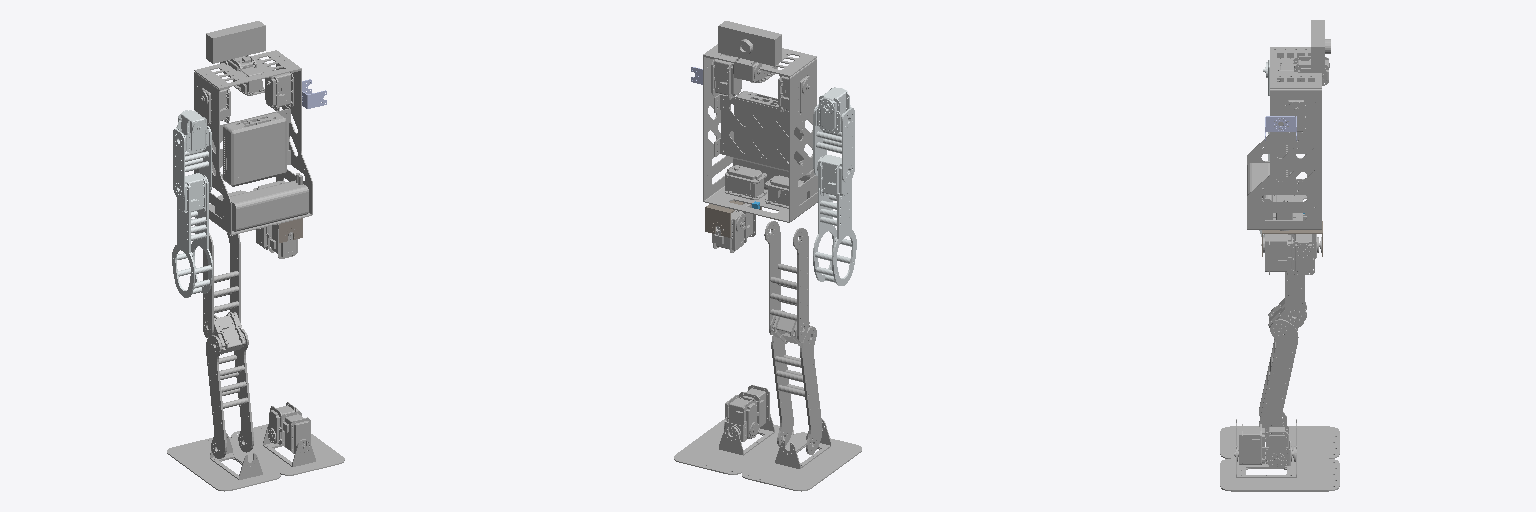
--- Facts derived from the render (not from the file) ---
The picture shows the robot from 3 angles, left to right: view 1: azimuth 30°, elevation 25°; view 2: azimuth 150°, elevation 25°; view 3: azimuth 270°, elevation 25°; orthographic projection.
Robot: SAKURA — 22 links, 21 joints (19 continuous, 1 fixed, 1 floating); root link world; default pose: every joint at zero.
Links seen in each view (by area): view 1: TRUNK, LLEG3, LARM2, LFOOT, LLEG2, LARM1, RFOOT, HEAD, RLEG4, RLEG1; view 2: TRUNK, LFOOT, LARM2, LLEG2, LLEG3, RFOOT, LARM1, HEAD, RLEG4, RLEG1, RLEG0; view 3: TRUNK, RFOOT, LLEG3, RLEG4, LFOOT, RLEG1, LLEG2, HEAD.
Boxes of the visible links, box(x1,y1,x2,y2) form: TRUNK: box(194, 50, 312, 234); LLEG3: box(206, 329, 253, 458); LARM2: box(172, 173, 212, 297); LFOOT: box(167, 433, 280, 491); LLEG2: box(203, 233, 245, 354); LARM1: box(173, 110, 211, 199); RFOOT: box(231, 424, 344, 475); HEAD: box(206, 21, 265, 80); RLEG4: box(268, 402, 310, 453); RLEG1: box(256, 224, 297, 258); TRUNK: box(703, 44, 817, 222); LFOOT: box(742, 419, 861, 491); LARM2: box(813, 155, 856, 285); LLEG2: box(764, 221, 810, 346); LLEG3: box(771, 326, 822, 454); RFOOT: box(674, 414, 793, 474); LARM1: box(813, 87, 854, 182); HEAD: box(718, 21, 781, 82); RLEG4: box(724, 385, 769, 441); RLEG1: box(712, 203, 755, 252); RLEG0: box(705, 200, 761, 237); TRUNK: box(1247, 47, 1321, 230); RFOOT: box(1220, 446, 1339, 491); LLEG3: box(1259, 306, 1298, 437); RLEG4: box(1234, 424, 1295, 467); LFOOT: box(1220, 419, 1339, 458); RLEG1: box(1261, 234, 1321, 274); LLEG2: box(1268, 214, 1306, 331); HEAD: box(1293, 20, 1330, 85).
Size in the robot's own frame: 0.291 by 0.208 by 0.8159 metres.
12 mesh visuals loaded from 20 distinct referenced files (12 binary STL); not drawn: 8 (reference not matched to a file when rendering).

URDF robot description (SAKURA):
<?xml version="1.0"?>
<robot
  name="SAKURA">	
  <gazebo reference="imu_link">
    <gravity>true</gravity>
    <sensor name="imu_sensor" type="imu">
      <always_on>true</always_on>
      <update_rate>125</update_rate>
      <visualize>true</visualize>
      <topic>__default_topic__</topic>
      <plugin filename="libgazebo_ros_imu_sensor.so" name="imu_plugin">
        <topicName>imu/data_raw</topicName>
        <bodyName>imu_link</bodyName>
        <updateRateHZ>125.0</updateRateHZ>
        <gaussianNoise>0.0</gaussianNoise>
        <xyzOffset>0 0 0</xyzOffset>
        <rpyOffset>0 0 0</rpyOffset>
        <frameName>imu_link</frameName>
      </plugin>
      <pose>0 0 0 0 0 0</pose>
    </sensor>
  </gazebo>
  <gazebo>
    <plugin filename="libgazebo_ros_control.so" name="gazebo_ros_control">
      <robotNamespace>/SAKURA</robotNamespace>
      <robotSimType>gazebo_ros_control/DefaultRobotHWSim</robotSimType>
    </plugin>
  </gazebo>
  <gazebo reference="J_HEAD">
	<stopErp>0.2</stopErp>
	<provideFeedback>true</provideFeedback>
  </gazebo>  
  <gazebo reference="J_LARM0">
	<stopErp>0.2</stopErp>
	<provideFeedback>true</provideFeedback>
  </gazebo>  
  <gazebo reference="J_LARM1">
	<stopErp>0.2</stopErp>
	<provideFeedback>true</provideFeedback>
  </gazebo>  
  <gazebo reference="J_LARM2">
	<stopErp>0.2</stopErp>
	<provideFeedback>true</provideFeedback>
  </gazebo>  
  <gazebo reference="J_RARM0">
	<stopErp>0.2</stopErp>
	<provideFeedback>true</provideFeedback>
  </gazebo>  
  <gazebo reference="J_RARM1">
	<stopErp>0.2</stopErp>
	<provideFeedback>true</provideFeedback>
  </gazebo>  
  <gazebo reference="J_LLEG0">
	<stopErp>0.2</stopErp>
	<provideFeedback>true</provideFeedback>
  </gazebo>  
  <gazebo reference="J_LLEG1">
	<stopErp>0.2</stopErp>
	<provideFeedback>true</provideFeedback>
  </gazebo>  
  <gazebo reference="J_LLEG2">
	<stopErp>0.2</stopErp>
	<provideFeedback>true</provideFeedback>
  </gazebo>  
  <gazebo reference="J_LLEG3">
	<stopErp>0.2</stopErp>
	<provideFeedback>true</provideFeedback>
  </gazebo>  
  <gazebo reference="J_LLEG4">
	<stopErp>0.2</stopErp>
	<provideFeedback>true</provideFeedback>
  </gazebo>  
  <gazebo reference="J_RLEG0">
	<stopErp>0.2</stopErp>
	<provideFeedback>true</provideFeedback>
  </gazebo>  
  <gazebo reference="J_RLEG1">
	<stopErp>0.2</stopErp>
	<provideFeedback>true</provideFeedback>
  </gazebo>  
  <gazebo reference="J_RLEG2">
	<stopErp>0.2</stopErp>
	<provideFeedback>true</provideFeedback>
  </gazebo>  
  <gazebo reference="J_RLEG3">
	<stopErp>0.2</stopErp>
	<provideFeedback>true</provideFeedback>
  </gazebo>  
  <gazebo reference="J_RLEG4">
	<stopErp>0.2</stopErp>
	<provideFeedback>true</provideFeedback>
  </gazebo> 
  <gazebo reference="J_RARM2">
	<stopErp>0.2</stopErp>
	<provideFeedback>true</provideFeedback>
  </gazebo> 
  <gazebo reference="J_LFOOT">
	<stopErp>0.2</stopErp>
	<provideFeedback>true</provideFeedback>
  </gazebo>  
  <gazebo reference="J_RFOOT">
	<stopErp>0.2</stopErp>
	<provideFeedback>true</provideFeedback>
  </gazebo>  
  <gazebo reference="RFOOT">
    <mu1>1.0</mu1>
    <mu2>1.0</mu2>
    <kp>1220000.0</kp>
    <kd>1.0</kd> <!---->
  </gazebo>
  <gazebo reference="LFOOT">
    <mu1>1.0</mu1>
    <mu2>1.0</mu2>
    <kp>1220000.0</kp>
    <kd>1.0</kd> <!---->
  </gazebo>
  
<!-- FT SENSORS -->
  <gazebo>
	<plugin name="ft_sensor" filename="libgazebo_ros_ft_sensor.so">
	  <updateRate>100.0</updateRate>
	  <topicName>ft_sensor_larm0</topicName>
	  <jointName>J_LARM0</jointName>
	</plugin>
  </gazebo>
  <gazebo>
	<plugin name="ft_sensor" filename="libgazebo_ros_ft_sensor.so">
	  <updateRate>100.0</updateRate>
	  <topicName>ft_sensor_larm1</topicName>
	  <jointName>J_LARM1</jointName>
	</plugin>
  </gazebo>
  <gazebo>
	<plugin name="ft_sensor" filename="libgazebo_ros_ft_sensor.so">
	  <updateRate>100.0</updateRate>
	  <topicName>ft_sensor_larm2</topicName>
	  <jointName>J_LARM2</jointName>
	</plugin>
  </gazebo>
  
  
    <gazebo>
	<plugin name="ft_sensor" filename="libgazebo_ros_ft_sensor.so">
	  <updateRate>100.0</updateRate>
	  <topicName>ft_sensor_rarm0</topicName>
	  <jointName>J_RARM0</jointName>
	</plugin>
  </gazebo>
  <gazebo>
	<plugin name="ft_sensor" filename="libgazebo_ros_ft_sensor.so">
	  <updateRate>100.0</updateRate>
	  <topicName>ft_sensor_rarm1</topicName>
	  <jointName>J_RARM1</jointName>
	</plugin>
  </gazebo>
  <gazebo>
	<plugin name="ft_sensor" filename="libgazebo_ros_ft_sensor.so">
	  <updateRate>100.0</updateRate>
	  <topicName>ft_sensor_rarm2</topicName>
	  <jointName>J_RARM2</jointName>
	</plugin>
  </gazebo>
  
  
  
  <gazebo>
	<plugin name="ft_sensor" filename="libgazebo_ros_ft_sensor.so">
	  <updateRate>100.0</updateRate>
	  <topicName>ft_sensor_lleg0</topicName>
	  <jointName>J_LLEG0</jointName>
	</plugin>
  </gazebo>
    <gazebo>
	<plugin name="ft_sensor" filename="libgazebo_ros_ft_sensor.so">
	  <updateRate>100.0</updateRate>
	  <topicName>ft_sensor_lleg1</topicName>
	  <jointName>J_LLEG1</jointName>
	</plugin>
  </gazebo>
    <gazebo>
	<plugin name="ft_sensor" filename="libgazebo_ros_ft_sensor.so">
	  <updateRate>100.0</updateRate>
	  <topicName>ft_sensor_lleg2</topicName>
	  <jointName>J_LLEG2</jointName>
	</plugin>
  </gazebo>
    <gazebo>
	<plugin name="ft_sensor" filename="libgazebo_ros_ft_sensor.so">
	  <updateRate>100.0</updateRate>
	  <topicName>ft_sensor_lleg3</topicName>
	  <jointName>J_LLEG3</jointName>
	</plugin>
  </gazebo>
    <gazebo>
	<plugin name="ft_sensor" filename="libgazebo_ros_ft_sensor.so">
	  <updateRate>100.0</updateRate>
	  <topicName>ft_sensor_lleg4</topicName>
	  <jointName>J_LLEG4</jointName>
	</plugin>
  </gazebo>
    <gazebo>
	<plugin name="ft_sensor" filename="libgazebo_ros_ft_sensor.so">
	  <updateRate>100.0</updateRate>
	  <topicName>ft_sensor_lfoot</topicName>
	  <jointName>J_LFOOT</jointName>
	</plugin>
  </gazebo>
  
    <gazebo>
	<plugin name="ft_sensor" filename="libgazebo_ros_ft_sensor.so">
	  <updateRate>100.0</updateRate>
	  <topicName>ft_sensor_rleg0</topicName>
	  <jointName>J_RLEG0</jointName>
	</plugin>
  </gazebo>
    <gazebo>
	<plugin name="ft_sensor" filename="libgazebo_ros_ft_sensor.so">
	  <updateRate>100.0</updateRate>
	  <topicName>ft_sensor_rleg1</topicName>
	  <jointName>J_RLEG1</jointName>
	</plugin>
  </gazebo>
    <gazebo>
	<plugin name="ft_sensor" filename="libgazebo_ros_ft_sensor.so">
	  <updateRate>100.0</updateRate>
	  <topicName>ft_sensor_rleg2</topicName>
	  <jointName>J_RLEG2</jointName>
	</plugin>
  </gazebo>
    <gazebo>
	<plugin name="ft_sensor" filename="libgazebo_ros_ft_sensor.so">
	  <updateRate>100.0</updateRate>
	  <topicName>ft_sensor_rleg3</topicName>
	  <jointName>J_RLEG3</jointName>
	</plugin>
  </gazebo>
    <gazebo>
	<plugin name="ft_sensor" filename="libgazebo_ros_ft_sensor.so">
	  <updateRate>100.0</updateRate>
	  <topicName>ft_sensor_rleg4</topicName>
	  <jointName>J_RLEG4</jointName>
	</plugin>
  </gazebo>
    <gazebo>
	<plugin name="ft_sensor" filename="libgazebo_ros_ft_sensor.so">
	  <updateRate>100.0</updateRate>
	  <topicName>ft_sensor_rfoot</topicName>
	  <jointName>J_RFOOT</jointName>
	</plugin>
  </gazebo>
  
  
  

  <link name="world">  </link>
  
  <link name="imu_link">
    <collision>
      <origin xyz="0 0 0" rpy="0 0 0"/>
      <geometry>
    <box size="0.01 0.01 0.01"/>
      </geometry>
    </collision>

    <visual>
      <origin xyz="0 0 0" rpy="0 0 0"/>
      <geometry>
    <box size="0.01 0.01 0.01"/>
      </geometry>
      <material name="red"/>
    </visual>

    <inertial>
      <mass value="1e-5" />
      <origin xyz="0 0 0" rpy="0 0 0"/>
      <inertia ixx="1e-6" ixy="0" ixz="0" iyy="1e-6" iyz="0" izz="1e-6" />
    </inertial>
  </link>
  <joint name="imu_joint" type="fixed">
    <axis xyz="-1 0 0" />
    <origin xyz="0 0 0" rpy="0 0 0"/>
    <parent link="TRUNK"/>
    <child link="imu_link"/>
  </joint>
  
  
  
  
  <link
    name="TRUNK">
    <inertial>
      <origin
        xyz="-0.000142944293532541 -0.0159940135836359 0.119253638413231"
        rpy="0 0 0" />
      <mass
        value="1.4778155091901" />
      <inertia
        ixx="0.0125398154437975"
        ixy="-2.68478156217668E-06"
        ixz="-7.17353402812125E-06"
        iyy="0.016695640033345"
        iyz="0.000776177026664091"
        izz="0.01567882258573842" />
    </inertial>
    <visual>
      <origin
        xyz="0 0 0"
        rpy="0 0 0" />
      <geometry>
        <mesh
          filename="package://sakura_description/meshes/TRUNK.STL" />
      </geometry>
      <material
        name="">
        <color
          rgba="0.752941176470588 0.752941176470588 0.752941176470588 1" />
      </material>
    </visual>
  </link>
  <joint name="fixed" type="floating">
    <parent link="world"/>
    <child link="TRUNK"/>
    <origin xyz="0 0 0.50" rpy="0 0 0"/>
  </joint>
  <link
    name="HEAD">
    <inertial>
      <origin
        xyz="-0.0038811 0.012249 0.048965"
        rpy="0 0 0" />
      <mass
        value="0.21462" />
      <inertia
        ixx="0.00110122"
        ixy="8.917E-07"
        ixz="4.6738E-06"
        iyy="0.001"
        iyz="-1.8633E-05"
        izz="0.001" />
    </inertial>
    <visual>
      <origin
        xyz="0 0 0"
        rpy="0 0 0" />
      <geometry>
        <mesh
          filename="package://sakura_description/meshes/HEAD.STL" />
      </geometry>
      <material
        name="">
        <color
          rgba="0.75294 0.75294 0.75294 1" />
      </material>
    </visual>
  </link>
  <joint
    name="J_HEAD"
    type="continuous">
    <origin
      xyz="0.0016 0.01125 0.2484"
      rpy="-1.2005E-15 -9.4278E-17 -2.3904E-16" />
    <parent
      link="TRUNK" />
    <child
      link="HEAD" />
    <axis
      xyz="0 0 1" />
    <limit
      effort="10"
      velocity="8.58" />
    <dynamics 
	  damping="0.7"
	  friction="0.5"/>
  </joint>
  <link
    name="LARM0">
    <inertial>
      <origin
        xyz="4.16333634234434E-17 2.77555756156289E-17 0.0103025666414173"
        rpy="0 0 0" />
      <mass
        value="0.0066175226097181" />
      <inertia
        ixx="1.E-03"
        ixy="0"
        ixz="0"
        iyy="1.E-03"
        iyz="0"
        izz="1.E-03" />
    </inertial>
    <visual>
      <origin
        xyz="0 0 0"
        rpy="0 0 0" />
      <geometry>
        <mesh
          filename="package://sakura_description/meshes/LARM0.STL" />
      </geometry>
      <material
        name="">
        <color
          rgba="0.792156862745098 0.819607843137255 0.933333333333333 1" />
      </material>
    </visual>
  </link>
  <joint
    name="J_LARM0"
    type="continuous">
    <origin
      xyz="-0.0935 -0.038 0.209"
      rpy="1.5708 3.14159 -1.5708" />
    <parent
      link="TRUNK" />
    <child
      link="LARM0" />
    <axis
      xyz="0 0 1" />
    <limit
      effort="10"
      velocity="8.58" />
    <dynamics 
     damping="0.7"
     friction="0.5"/>
  </joint>
  <link
    name="LARM1">
    <inertial>
      <origin
        xyz="-0.000203905909046856 -0.0358166170046635 -0.030724518771744"
        rpy="0 0 0" />
      <mass
        value="0.386889741732442" />
      <inertia
        ixx="0.001319462933467775"
        ixy="-7.00859671208955E-06"
        ixz="-6.33921748509821E-09"
        iyy="0.001"
        iyz="6.46973244600118E-07"
        izz="0.001386423060557297" />
    </inertial>
    <visual>
      <origin
        xyz="0 0 0"
        rpy="0 0 0" />
      <geometry>
        <mesh
          filename="package://sakura_description/meshes/LARM1.STL" />
      </geometry>
      <material
        name="">
        <color
          rgba="0.898039215686275 0.92156862745098 0.929411764705882 1" />
      </material>
    </visual>
  </link>
  <joint
    name="J_LARM1"
    type="continuous">
    <origin
      xyz="-0.0308 0 0.036"
      rpy="3.1416 1.5708 0" />
    <parent
      link="LARM0" />
    <child
      link="LARM1" />
    <axis
      xyz="0 0 -1" />
    <limit
      effort="10"
      velocity="8.58" />
        <dynamics 
     damping="0.7"
     friction="0.5"/>
  </joint>
  <link
    name="LARM2">
    <inertial>
      <origin
        xyz="-0.000946892853796732 -0.0604743903550126 -0.030549305382329"
        rpy="0 0 0" />
      <mass
        value="0.417770884687889" />
      <inertia
        ixx="0.00130365609096481"
        ixy="-2.20058971275383E-05"
        ixz="-1.13235654810576E-07"
        iyy="0.001"
        iyz="-4.76741794550902E-06"
        izz="0.00130522583526536" />
    </inertial>
    <visual>
      <origin
        xyz="0 0 0"
        rpy="0 0 0" />
      <geometry>
        <mesh
          filename="package://sakura_description/meshes/LARM2.STL" />
      </geometry>
      <material
        name="">
        <color
          rgba="0.898039215686275 0.92156862745098 0.929411764705882 1" />
      </material>
    </visual>
  </link>
  <joint
    name="J_LARM2"
    type="continuous">
    <origin
      xyz="0.0307 -0.1235 -0.0308"
      rpy="0 1.5708 0" />
    <parent
      link="LARM1" />
    <child
      link="LARM2" />
    <axis
      xyz="0 0 -1" />
    <limit
      effort="10"
      velocity="8.58" />
        <dynamics 
     damping="0.7"
     friction="0.5"/>
  </joint>
  <link
    name="RARM0">
    <inertial>
      <origin
        xyz="-4.16333634234434E-17 0 0.0103025666414173"
        rpy="0 0 0" />
      <mass
        value="0.00661752260971814" />
      <inertia
        ixx="1.E-03"
        ixy="0"
        ixz="0"
        iyy="1.E-03"
        iyz="0"
        izz="1.E-03" />
    </inertial>
    <visual>
      <origin
        xyz="0 0 0"
        rpy="0 0 0" />
      <geometry>
        <mesh
          filename="package://sakura_description/meshes/RARM0.STL" />
      </geometry>
      <material
        name="">
        <color
          rgba="0.792156862745098 0.819607843137255 0.933333333333333 1" />
      </material>
    </visual>
  </link>
  <joint
    name="J_RARM0"
    type="continuous">
    <origin
      xyz="0.0935 -0.038 0.209"
      rpy="-1.5708 -6.1121E-16 -1.5708" />
    <parent
      link="TRUNK" />
    <child
      link="RARM0" />
    <axis
      xyz="0 0 1" />
    <limit
      effort="10"
      velocity="8.58" />
        <dynamics 
     damping="0.7"
     friction="0.5"/>
  </joint>
  <link
    name="RARM1">
    <inertial>
      <origin
        xyz="-0.00020391 -0.035817 -0.030725"
        rpy="0 0 0" />
      <mass
        value="0.38689" />
      <inertia
        ixx="0.00131946"
        ixy="-7.0086E-06"
        ixz="-6.3392E-09"
        iyy="0.001"
        iyz="6.4697E-07"
        izz="0.00138642" />
    </inertial>
    <visual>
      <origin
        xyz="0 0 0"
        rpy="0 0 0" />
      <geometry>
        <mesh
          filename="package://sakura_description/meshes/RARM1.STL" />
      </geometry>
      <material
        name="">
        <color
          rgba="0.89804 0.92157 0.92941 1" />
      </material>
    </visual>
  </link>
  <joint
    name="J_RARM1"
    type="continuous">
    <origin
      xyz="-0.0308 0 0.036"
      rpy="3.1416 1.5708 0" />
    <parent
      link="RARM0" />
    <child
      link="RARM1" />
    <axis
      xyz="0 0 1" />
    <limit
      effort="10"
      velocity="8.58" />
        <dynamics 
     damping="0.7"
     friction="0.5"/>
  </joint>
  <link
    name="RARM2">
    <inertial>
      <origin
        xyz="-0.000946892853796774 -0.0604743903550127 -0.0305493053823289"
        rpy="0 0 0" />
      <mass
        value="0.417770884687889" />
      <inertia
        ixx="0.00130365609096481"
        ixy="-2.20058971275389E-05"
        ixz="-1.13235654810633E-07"
        iyy="0.001"
        iyz="-4.76741794550966E-06"
        izz="0.00130522583526536" />
    </inertial>
    <visual>
      <origin
        xyz="0 0 0"
        rpy="0 0 0" />
      <geometry>
        <mesh
          filename="package://sakura_description/meshes/RARM2.STL" />
      </geometry>
      <material
        name="">
        <color
          rgba="0.898039215686275 0.92156862745098 0.929411764705882 1" />
      </material>
    </visual>
  </link>
  <joint
    name="J_RARM2"
    type="continuous">
    <origin
      xyz="0.0307 -0.1235 -0.0308"
      rpy="0 1.5708 0" />
    <parent
      link="RARM1" />
    <child
      link="RARM2" />
    <axis
      xyz="0 0 -1" />
    <limit
      effort="10"
      velocity="8.58" />
        <dynamics 
     damping="0.7"
     friction="0.5"/>
  </joint>
  <link
    name="LLEG0">
    <inertial>
      <origin
        xyz="1.38777878078145E-17 1.38777878078145E-17 0.012339611662812"
        rpy="0 0 0" />
      <mass
        value="0.137487098095279" />
      <inertia
        ixx="0.001"
        ixy="0"
        ixz="0"
        iyy="0.001"
        iyz="0"
        izz="0.001" />
    </inertial>
    <visual>
      <origin
        xyz="0 0 0"
        rpy="0 0 0" />
      <geometry>
        <mesh
          filename="package://sakura_description/meshes/LLEG0.STL" />
      </geometry>
      <material
        name="">
        <color
          rgba="0.650980392156863 0.619607843137255 0.588235294117647 1" />
      </material>
    </visual>
  </link>
  <joint
    name="J_LLEG0"
    type="continuous">
    <origin
      xyz="-0.055 -0.018 -0.005"
      rpy="-3.14159265358979 1.21430643318376E-16 -1.5707963267949" />
    <parent
      link="TRUNK" />
    <child
      link="LLEG0" />
    <axis
      xyz="0 0 1" />
    <limit
      effort="10"
      velocity="8.58" />
        <dynamics 
     damping="0.7"
     friction="0.5"/>
  </joint>
  <link
    name="LLEG1">
    <inertial>
      <origin
        xyz="-4.90216563097182E-05 -0.014933566350856 -0.0542307430726147"
        rpy="0 0 0" />
      <mass
        value="0.484317524341268" />
      <inertia
        ixx="0.001258532465487086"
        ixy="-1.08430216395215E-08"
        ixz="-4.93107012410751E-07"
        iyy="0.001256538006237082"
        iyz="8.86337248194806E-06"
        izz="0.001" />
    </inertial>
    <visual>
      <origin
        xyz="0 0 0"
        rpy="0 0 0" />
      <geometry>
        <mesh
          filename="package://sakura_description/meshes/LLEG1.STL" />
      </geometry>
      <material
        name="">
        <color
          rgba="0.752941176470588 0.752941176470588 0.752941176470588 1" />
      </material>
    </visual>
  </link>
  <joint
    name="J_LLEG1"
    type="continuous">
    <origin
      xyz="0.056 0 0.036"
      rpy="-1.5707963267949 -1.22338662637834E-16 -1.5707963267949" />
    <parent
      link="LLEG0" />
    <child
      link="LLEG1" />
    <axis
      xyz="0 0 -1" />
    <limit
      effort="10"
      velocity="8.58" />
        <dynamics 
     damping="0.7"
     friction="0.5"/>
  </joint>
  <link
    name="LLEG2">
    <inertial>
      <origin
        xyz="0.0896135033902749 -0.121669815792639 -0.0285739776731877"
        rpy="0 0 0" />
      <mass
        value="0.429581814867276" />
      <inertia
        ixx="0.001739443276879588"
        ixy="0.000469298592224479"
        ixz="-4.17657698668898E-06"
        iyy="0.00145781924000273"
        iyz="4.49877955818474E-06"
        izz="0.00100793675092908" />
    </inertial>
    <visual>
      <origin
        xyz="0 0 0"
        rpy="0 0 0" />
      <geometry>
        <mesh
          filename="package://sakura_description/meshes/LLEG2.STL" />
      </geometry>
      <material
        name="">
        <color
          rgba="0.752941176470588 0.752941176470588 0.752941176470588 1" />
      </material>
    </visual>
  </link>
  <joint
    name="J_LLEG2"
    type="continuous">
    <origin
      xyz="0.0289999999999999 0 -0.0750000000000234"
      rpy="-1.5707963267949 0.78539816339745 -1.5707963267949" />
    <parent
      link="LLEG1" />
    <child
      link="LLEG2" />
    <axis
      xyz="0 0 1" />
    <limit
      effort="10"
      velocity="8.58" />
        <dynamics 
     damping="0.7"
     friction="0.5"/>
  </joint>
  <link
    name="LLEG3">
    <inertial>
      <origin
        xyz="0.0938607247050214 0.021121469241447 -0.0266864244548486"
        rpy="0 0 0" />
      <mass
        value="0.253457988874213" />
      <inertia
        ixx="0.001157893827081503"
        ixy="4.33507693026071E-06"
        ixz="2.38137513758817E-06"
        iyy="0.001215254509125973"
        iyz="4.49605098935315E-06"
        izz="0.001" />
    </inertial>
    <visual>
      <origin
        xyz="0 0 0"
        rpy="0 0 0" />
      <geometry>
        <mesh
          filename="package://sakura_description/meshes/LLEG3.STL" />
      </geometry>
      <material
        name="">
        <color
          rgba="0.752941176470588 0.752941176470588 0.752941176470588 1" />
      </material>
    </visual>
  </link>
  <joint
    name="J_LLEG3"
    type="continuous">
    <origin
      xyz="0.112429978208667 -0.169643181644254 0.00160000000000024"
      rpy="-0.0320557226319531 0.0283578707512148 -1.01721646459287" />
    <parent
      link="LLEG2" />
    <child
      link="LLEG3" />
    <axis
      xyz="-0.0283540701513945 -0.0320373469653184 0.999084408398647" />
    <limit
      effort="10"
      velocity="8.58" />
        <dynamics 
     damping="0.7"
     friction="0.5"/>  
  </joint>
  <link
    name="LLEG4">
    <inertial>
      <origin
        xyz="0.0207692569273853 -0.0149335663508559 -0.0309509783436903"
        rpy="0 0 0" />
      <mass
        value="0.484317524341267" />
      <inertia
        ixx="0.001"
        ixy="8.86337248194725E-06"
        ixz="4.93107012410836E-07"
        iyy="0.001256538006237082"
        iyz="1.08430216395228E-08"
        izz="0.001258532465487085" />
    </inertial>
    <visual>
      <origin
        xyz="0 0 0"
        rpy="0 0 0" />
      <geometry>
        <mesh
          filename="package://sakura_description/meshes/LLEG4.STL" />
      </geometry>
      <material
        name="">
        <color
          rgba="0.752941176470588 0.752941176470588 0.752941176470588 1" />
      </material>
    </visual>
  </link>
  <joint
    name="J_LLEG4"
    type="continuous">
    <origin
      xyz="0.19759 0.040682 0.007913"
      rpy="0.034963 0.024684 -1.339" />
    <parent
      link="LLEG3" />
    <child
      link="LLEG4" />
    <axis
      xyz="0 0 -1" />
    <limit
      effort="10"
      velocity="8.58" />
        <dynamics 
     damping="0.7"
     friction="0.5"/>
  </joint>
  <link
    name="LFOOT">
    <inertial>
      <origin
        xyz="-0.00984398078216434 0.033081446163245 0.0742424926896279"
        rpy="0 0 0" />
      <mass
        value="0.474832547151362" />
      <inertia
        ixx="0.001"
        ixy="8.95545085142721E-06"
        ixz="2.1883900378474E-05"
        iyy="0.001"
        iyz="-1.93251189181957E-05"
        izz="0.001" />
    </inertial>
    <visual>
      <origin
        xyz="0 0 0"
        rpy="0 0 0" />
      <geometry>
        <mesh
          filename="package://sakura_description/meshes/LFOOT.STL" />
      </geometry>
      <material
        name="">
        <color
          rgba="0.752941176470588 0.752941176470588 0.752941176470588 1" />
      </material>
    </visual>
    <collision>
      <origin
        xyz="0 0 0"
        rpy="0 0 0" />
      <geometry>
        <mesh
          filename="package://sakura_description/meshes/LFOOT.STL" />
      </geometry>
    </collision>
  </link>
  <joint
    name="J_LFOOT"
    type="continuous">
    <origin
      xyz="0.072 0 -0.031"
      rpy="0 -1.5708 0" />
    <parent
      link="LLEG4" />
    <child
      link="LFOOT" />
    <axis
      xyz="0 0 -1" />
    <limit
      effort="10"
      velocity="8.58" />
        <dynamics 
     damping="0.7"
     friction="0.5"/>
  </joint>
  <link
    name="RLEG0">
    <inertial>
      <origin
        xyz="0 1.38777878078145E-17 0.012339611662812"
        rpy="0 0 0" />
      <mass
        value="0.137487098095279" />
      <inertia
        ixx="0.001"
        ixy="0"
        ixz="0"
        iyy="0.001"
        iyz="0"
        izz="0.001" />
    </inertial>
    <visual>
      <origin
        xyz="0 0 0"
        rpy="0 0 0" />
      <geometry>
        <mesh
          filename="package://sakura_description/meshes/RLEG0.STL" />
      </geometry>
      <material
        name="">
        <color
          rgba="0.650980392156863 0.619607843137255 0.588235294117647 1" />
      </material>
    </visual>
  </link>
  <joint
    name="J_RLEG0"
    type="continuous">
    <origin
      xyz="0.055 -0.018 -0.005"
      rpy="-3.14159265358979 1.21430643318376E-16 -1.5707963267949" />
    <parent
      link="TRUNK" />
    <child
      link="RLEG0" />
    <axis
      xyz="0 0 1" />
    <limit
      effort="10"
      velocity="8.58" />
        <dynamics 
     damping="0.7"
     friction="0.5"/>
  </joint>
  <link
    name="RLEG1">
    <inertial>
      <origin
        xyz="-4.9022E-05 -0.014934 -0.054231"
        rpy="0 0 0" />
      <mass
        value="0.48432" />
      <inertia
        ixx="0.00125853"
        ixy="-1.0843E-08"
        ixz="-4.9311E-07"
        iyy="0.00125654"
        iyz="8.8634E-06"
        izz="0.001" />
    </inertial>
    <visual>
      <origin
        xyz="0 0 0"
        rpy="0 0 0" />
      <geometry>
        <mesh
          filename="package://sakura_description/meshes/RLEG1.STL" />
      </geometry>
      <material
        name="">
        <color
          rgba="0.75294 0.75294 0.75294 1" />
      </material>
    </visual>
  </link>
  <joint
    name="J_RLEG1"
    type="continuous">
    <origin
      xyz="0.056 0 0.036"
      rpy="-1.5707963267949 2.66239395980971E-16 -1.5707963267949" />
    <parent
      link="RLEG0" />
    <child
      link="RLEG1" />
    <axis
      xyz="0 0 -1" />
    <limit
      effort="10"
      velocity="8.58" />
        <dynamics 
     damping="0.7"
     friction="0.5"/>
  </joint>
  <link
    name="RLEG2">
    <inertial>
      <origin
        xyz="0.089613503390275 -0.121669815792639 -0.0285739776731877"
        rpy="0 0 0" />
      <mass
        value="0.429581814867276" />
      <inertia
        ixx="0.001739443276879589"
        ixy="0.00046929859222448"
        ixz="-4.17657698668821E-06"
        iyy="0.001457819240002731"
        iyz="4.49877955818371E-06"
        izz="0.00100793675092908" />
    </inertial>
    <visual>
      <origin
        xyz="0 0 0"
        rpy="0 0 0" />
      <geometry>
        <mesh
          filename="package://sakura_description/meshes/RLEG2.STL" />
      </geometry>
      <material
        name="">
        <color
          rgba="0.752941176470588 0.752941176470588 0.752941176470588 1" />
      </material>
    </visual>
  </link>
  <joint
    name="J_RLEG2"
    type="continuous">
    <origin
      xyz="0.0290000000000001 0 -0.075"
      rpy="-1.5707963267949 0.78539816339745 -1.5707963267949" />
    <parent
      link="RLEG1" />
    <child
      link="RLEG2" />
    <axis
      xyz="0 0 -1" />
    <limit
      effort="10"
      velocity="8.58" />
        <dynamics 
     damping="0.7"
     friction="0.5"/>
  </joint>
  <link
    name="RLEG3">
    <inertial>
      <origin
        xyz="0.093861 0.021121 -0.026686"
        rpy="0 0 0" />
      <mass
        value="0.25346" />
      <inertia
        ixx="0.00115789"
        ixy="4.3351E-06"
        ixz="2.3814E-06"
        iyy="0.00121525"
        iyz="4.4961E-06"
        izz="0.001" />
    </inertial>
    <visual>
      <origin
        xyz="0 0 0"
        rpy="0 0 0" />
      <geometry>
        <mesh
          filename="package://sakura_description/meshes/RLEG3.STL" />
      </geometry>
      <material
        name="">
        <color
          rgba="0.75294 0.75294 0.75294 1" />
      </material>
    </visual>
  </link>
  <joint
    name="J_RLEG3"
    type="continuous">
    <origin
      xyz="0.112429978208668 -0.169643181644253 0.00160000000000014"
      rpy="-0.0320557226319534 0.0283578707512146 -1.01721646459286" />
    <parent
      link="RLEG2" />
    <child
      link="RLEG3" />
    <axis
      xyz="0.0283540701513948 0.0320373469653193 -0.999084408398647" />
    <limit
      effort="10"
      velocity="8.58" />
        <dynamics 
     damping="0.7"
     friction="0.5"/>
  </joint>
  <link
    name="RLEG4">
    <inertial>
      <origin
        xyz="0.0207692569273853 -0.014933566350856 -0.0309509783436903"
        rpy="0 0 0" />
      <mass
        value="0.484317524341268" />
      <inertia
        ixx="0.001"
        ixy="8.86337248194835E-06"
        ixz="4.93107012410999E-07"
        iyy="0.001256538006237082"
        iyz="1.08430216395282E-08"
        izz="0.001258532465487085" />
    </inertial>
    <visual>
      <origin
        xyz="0 0 0"
        rpy="0 0 0" />
      <geometry>
        <mesh
          filename="package://sakura_description/meshes/RLEG4.STL" />
      </geometry>
      <material
        name="">
        <color
          rgba="0.752941176470588 0.752941176470588 0.752941176470588 1" />
      </material>
    </visual>
  </link>
  <joint
    name="J_RLEG4"
    type="continuous">
    <origin
      xyz="0.19759 0.040682 0.007913"
      rpy="0.034963 0.024684 -1.339" />
    <parent
      link="RLEG3" />
    <child
      link="RLEG4" />
    <axis
      xyz="0 0 1" />
    <limit
      effort="10"
      velocity="8.58" />
        <dynamics 
     damping="0.7"
     friction="0.5"/>
  </joint>
  <link
    name="RFOOT">
    <inertial>
      <origin
        xyz="0.009844 0.033081 0.074242"
        rpy="0 0 0" />
      <mass
        value="0.47483" />
      <inertia
        ixx="0.001"
        ixy="-8.9555E-06"
        ixz="-2.1884E-05"
        iyy="0.001"
        iyz="-1.9325E-05"
        izz="0.001" />
    </inertial>
    <visual>
      <origin
        xyz="0 0 0"
        rpy="0 0 0" />
      <geometry>
        <mesh
          filename="package://sakura_description/meshes/RFOOT.STL" />
      </geometry>
      <material
        name="">
        <color
          rgba="0.75294 0.75294 0.75294 1" />
      </material>
    </visual>
    <collision>
      <origin
        xyz="0 0 0"
        rpy="0 0 0" />
      <geometry>
        <mesh
          filename="package://sakura_description/meshes/RFOOT.STL" />
      </geometry>
    </collision>
  </link>
  <joint
    name="J_RFOOT"
    type="continuous">
    <origin
      xyz="0.072 0 -0.031"
      rpy="0 -1.5708 0" />
    <parent
      link="RLEG4" />
    <child
      link="RFOOT" />
    <axis
      xyz="0 0 -1" />
    <limit
      effort="10"
      velocity="8.58" />
        <dynamics 
     damping="0.7"
     friction="0.5"/>
  </joint>
  
  <transmission name="T_RARM0">
	<type>transmission_interface/SimpleTransmission</type>
	<joint name="J_RARM0">
	  <hardwareInterface>hardware_interface/EffortJointInterface</hardwareInterface>
	</joint>
	<actuator name="M_RARM0">
	  <hardwareInterface>hardware_interface/EffortJointInterface</hardwareInterface>
	  <mechanicalReduction>1</mechanicalReduction>
	</actuator>
  </transmission>

  <transmission name="T_RARM1">
	<type>transmission_interface/SimpleTransmission</type>
	<joint name="J_RARM1">
	  <hardwareInterface>hardware_interface/EffortJointInterface</hardwareInterface>
	</joint>
	<actuator name="M_RARM1">
	  <hardwareInterface>hardware_interface/EffortJointInterface</hardwareInterface>
	  <mechanicalReduction>1</mechanicalReduction>
	</actuator>
  </transmission>
  
    <transmission name="T_RARM2">
	<type>transmission_interface/SimpleTransmission</type>
	<joint name="J_RARM2">
	  <hardwareInterface>hardware_interface/EffortJointInterface</hardwareInterface>
	</joint>
	<actuator name="M_RARM2">
	  <hardwareInterface>hardware_interface/EffortJointInterface</hardwareInterface>
	  <mechanicalReduction>1</mechanicalReduction>
	</actuator>
  </transmission>
  
    <transmission name="T_LARM0">
	<type>transmission_interface/SimpleTransmission</type>
	<joint name="J_LARM0">
	  <hardwareInterface>hardware_interface/EffortJointInterface</hardwareInterface>
	</joint>
	<actuator name="M_LARM0">
	  <hardwareInterface>hardware_interface/EffortJointInterface</hardwareInterface>
	  <mechanicalReduction>1</mechanicalReduction>
	</actuator>
  </transmission>

  <transmission name="T_LARM1">
	<type>transmission_interface/SimpleTransmission</type>
	<joint name="J_LARM1">
	  <hardwareInterface>hardware_interface/EffortJointInterface</hardwareInterface>
	</joint>
	<actuator name="M_LARM1">
	  <hardwareInterface>hardware_interface/EffortJointInterface</hardwareInterface>
	  <mechanicalReduction>1</mechanicalReduction>
	</actuator>
  </transmission>
  
    <transmission name="T_LARM2">
	<type>transmission_interface/SimpleTransmission</type>
	<joint name="J_LARM2">
	  <hardwareInterface>hardware_interface/EffortJointInterface</hardwareInterface>
	</joint>
	<actuator name="M_LARM2">
	  <hardwareInterface>hardware_interface/EffortJointInterface</hardwareInterface>
	  <mechanicalReduction>1</mechanicalReduction>
	</actuator>
  </transmission>

  
  
  
    <transmission name="T_RLEG0">
	<type>transmission_interface/SimpleTransmission</type>
	<joint name="J_RLEG0">
	  <hardwareInterface>hardware_interface/EffortJointInterface</hardwareInterface>
	</joint>
	<actuator name="M_RLEG0">
	  <hardwareInterface>hardware_interface/EffortJointInterface</hardwareInterface>
	  <mechanicalReduction>1</mechanicalReduction>
	</actuator>
  </transmission>

  <transmission name="T_RLEG1">
	<type>transmission_interface/SimpleTransmission</type>
	<joint name="J_RLEG1">
	  <hardwareInterface>hardware_interface/EffortJointInterface</hardwareInterface>
	</joint>
	<actuator name="M_RLEG1">
	  <hardwareInterface>hardware_interface/EffortJointInterface</hardwareInterface>
	  <mechanicalReduction>1</mechanicalReduction>
	</actuator>
  </transmission>
  
    <transmission name="T_RLEG2">
	<type>transmission_interface/SimpleTransmission</type>
	<joint name="J_RLEG2">
	  <hardwareInterface>hardware_interface/EffortJointInterface</hardwareInterface>
	</joint>
	<actuator name="M_RLEG2">
	  <hardwareInterface>hardware_interface/EffortJointInterface</hardwareInterface>
	  <mechanicalReduction>1</mechanicalReduction>
	</actuator>
  </transmission>
  
    <transmission name="T_RLEG3">
	<type>transmission_interface/SimpleTransmission</type>
	<joint name="J_RLEG3">
	  <hardwareInterface>hardware_interface/EffortJointInterface</hardwareInterface>
	</joint>
	<actuator name="M_RLEG3">
	  <hardwareInterface>hardware_interface/EffortJointInterface</hardwareInterface>
	  <mechanicalReduction>1</mechanicalReduction>
	</actuator>
  </transmission>
  
   <transmission name="T_RLEG4">
	<type>transmission_interface/SimpleTransmission</type>
	<joint name="J_RLEG4">
	  <hardwareInterface>hardware_interface/EffortJointInterface</hardwareInterface>
	</joint>
	<actuator name="M_RLEG4">
	  <hardwareInterface>hardware_interface/EffortJointInterface</hardwareInterface>
	  <mechanicalReduction>1</mechanicalReduction>
	</actuator>
  </transmission>
  
  <transmission name="T_RFOOT">
	<type>transmission_interface/SimpleTransmission</type>
	<joint name="J_RFOOT">
	  <hardwareInterface>hardware_interface/EffortJointInterface</hardwareInterface>
	</joint>
	<actuator name="M_RFOOT">
	  <hardwareInterface>hardware_interface/EffortJointInterface</hardwareInterface>
	  <mechanicalReduction>1</mechanicalReduction>
	</actuator>
  </transmission>


    <transmission name="T_LLEG0">
	<type>transmission_interface/SimpleTransmission</type>
	<joint name="J_LLEG0">
	  <hardwareInterface>hardware_interface/EffortJointInterface</hardwareInterface>
	</joint>
	<actuator name="M_LLEG0">
	  <hardwareInterface>hardware_interface/EffortJointInterface</hardwareInterface>
	  <mechanicalReduction>1</mechanicalReduction>
	</actuator>
  </transmission>

  <transmission name="T_LLEG1">
	<type>transmission_interface/SimpleTransmission</type>
	<joint name="J_LLEG1">
	  <hardwareInterface>hardware_interface/EffortJointInterface</hardwareInterface>
	</joint>
	<actuator name="M_LLEG1">
	  <hardwareInterface>hardware_interface/EffortJointInterface</hardwareInterface>
	  <mechanicalReduction>1</mechanicalReduction>
	</actuator>
  </transmission>
  
    <transmission name="T_LLEG2">
	<type>transmission_interface/SimpleTransmission</type>
	<joint name="J_LLEG2">
	  <hardwareInterface>hardware_interface/EffortJointInterface</hardwareInterface>
	</joint>
	<actuator name="M_LLEG2">
	  <hardwareInterface>hardware_interface/EffortJointInterface</hardwareInterface>
	  <mechanicalReduction>1</mechanicalReduction>
	</actuator>
  </transmission>
  
    <transmission name="T_LLEG3">
	<type>transmission_interface/SimpleTransmission</type>
	<joint name="J_LLEG3">
	  <hardwareInterface>hardware_interface/EffortJointInterface</hardwareInterface>
	</joint>
	<actuator name="M_LLEG3">
	  <hardwareInterface>hardware_interface/EffortJointInterface</hardwareInterface>
	  <mechanicalReduction>1</mechanicalReduction>
	</actuator>
  </transmission>
  
   <transmission name="T_LLEG4">
	<type>transmission_interface/SimpleTransmission</type>
	<joint name="J_LLEG4">
	  <hardwareInterface>hardware_interface/EffortJointInterface</hardwareInterface>
	</joint>
	<actuator name="M_LLEG4">
	  <hardwareInterface>hardware_interface/EffortJointInterface</hardwareInterface>
	  <mechanicalReduction>1</mechanicalReduction>
	</actuator>
  </transmission>
  
  <transmission name="T_LFOOT">
	<type>transmission_interface/SimpleTransmission</type>
	<joint name="J_LFOOT">
	  <hardwareInterface>hardware_interface/EffortJointInterface</hardwareInterface>
	</joint>
	<actuator name="M_LFOOT">
	  <hardwareInterface>hardware_interface/EffortJointInterface</hardwareInterface>
	  <mechanicalReduction>1</mechanicalReduction>
	</actuator>
  </transmission>



  
</robot>
